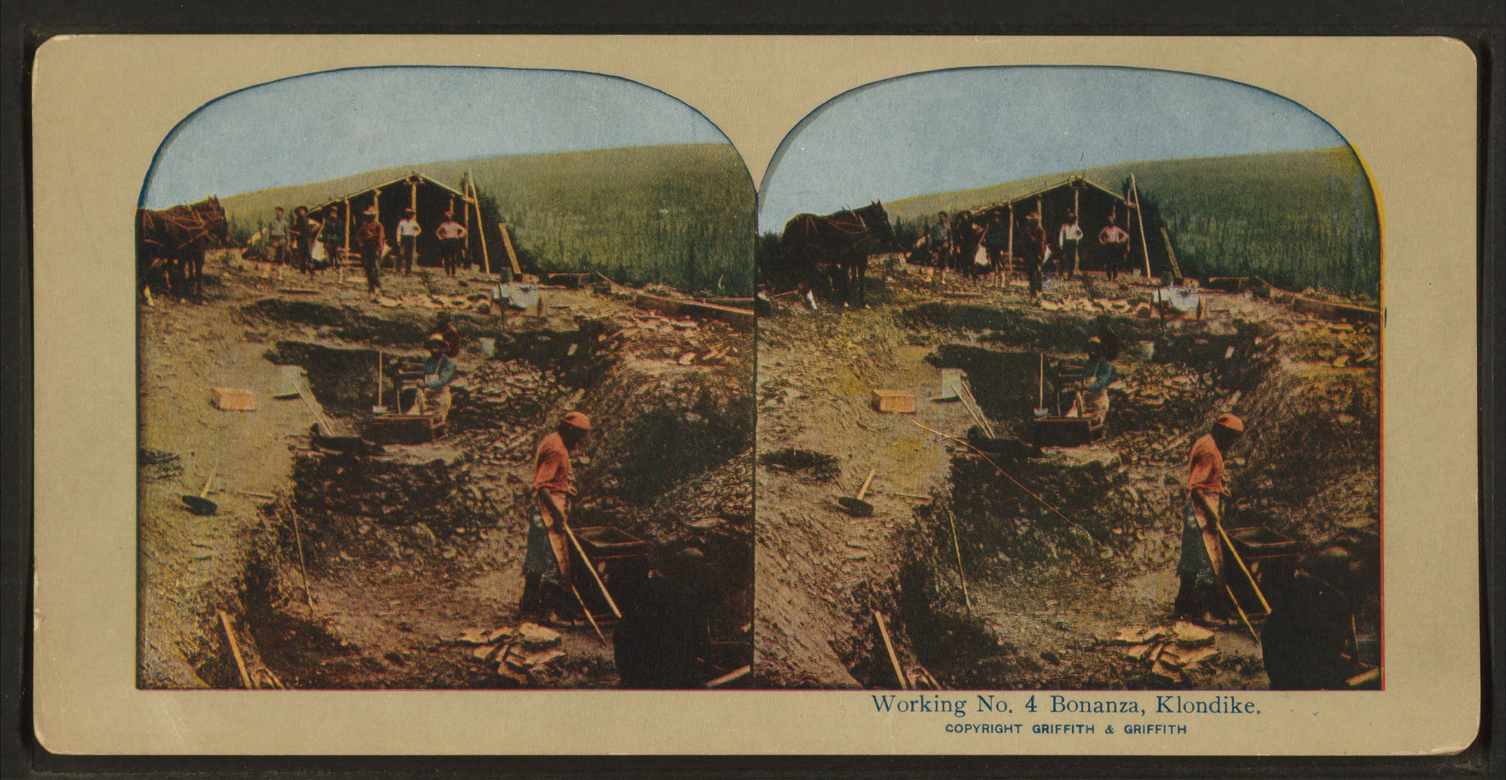half_image: (754, 68, 1381, 689), (138, 69, 756, 689)
